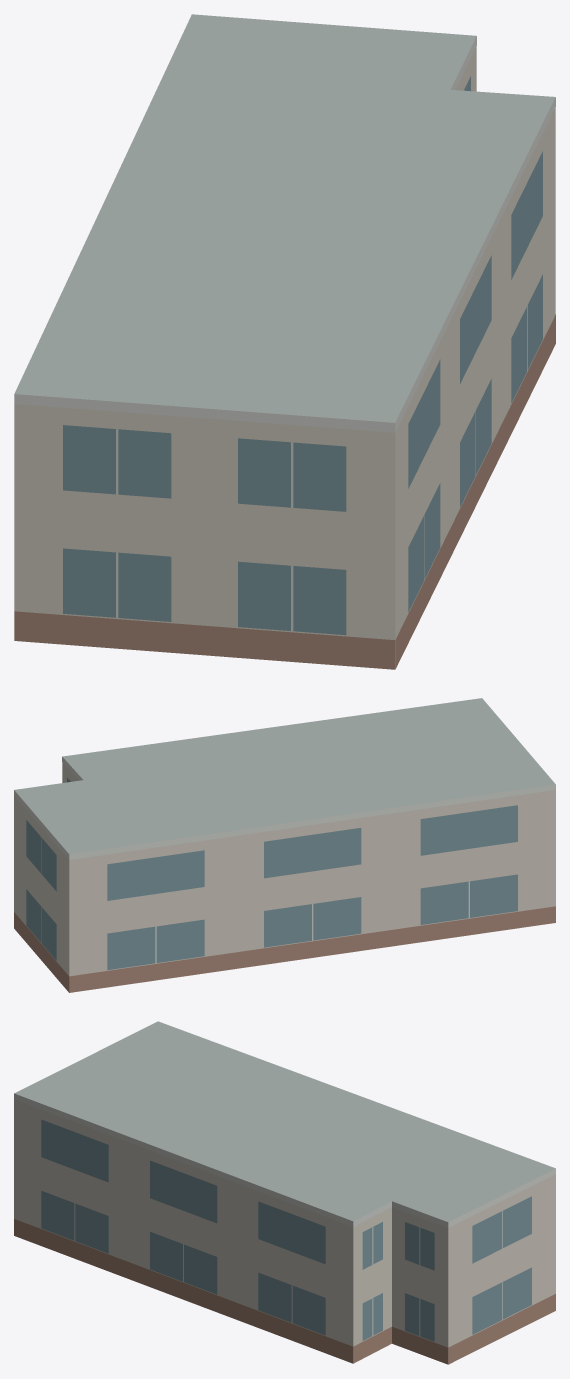
The model's file is survey-upis-32673126.glb.
The picture shows the model from 3 angles, top to bottom: view 1: azimuth 30°, elevation 25°; view 2: azimuth 150°, elevation 25°; view 3: azimuth 270°, elevation 25°; orthographic projection. The views are drawn at different scales.
Visible parts, largest first — view 1: survey-upis-32673126.tmp; view 2: survey-upis-32673126.tmp; view 3: survey-upis-32673126.tmp.
Boxes of the visible parts, x1,y1,x2,y2 form: survey-upis-32673126.tmp: (14, 14, 555, 669); survey-upis-32673126.tmp: (14, 698, 555, 992); survey-upis-32673126.tmp: (14, 1021, 555, 1364).
Size of the model in its own units: 18.48 by 6.1 by 21.05.
